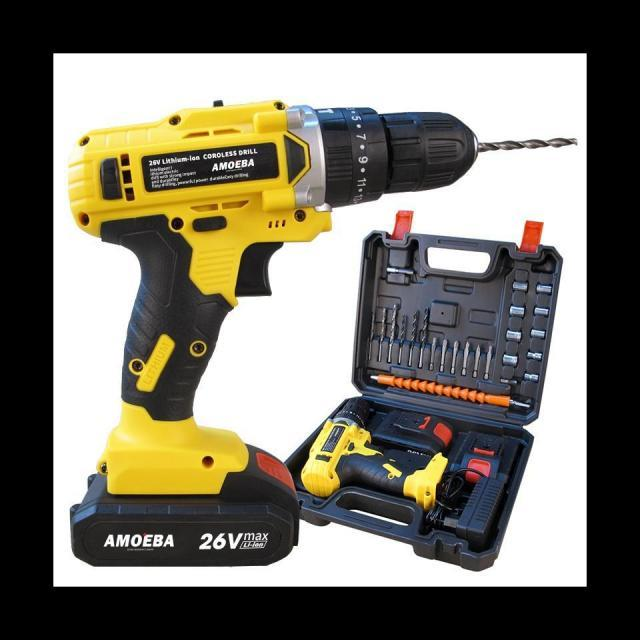drill: (68, 101, 578, 568), (301, 401, 450, 511)
